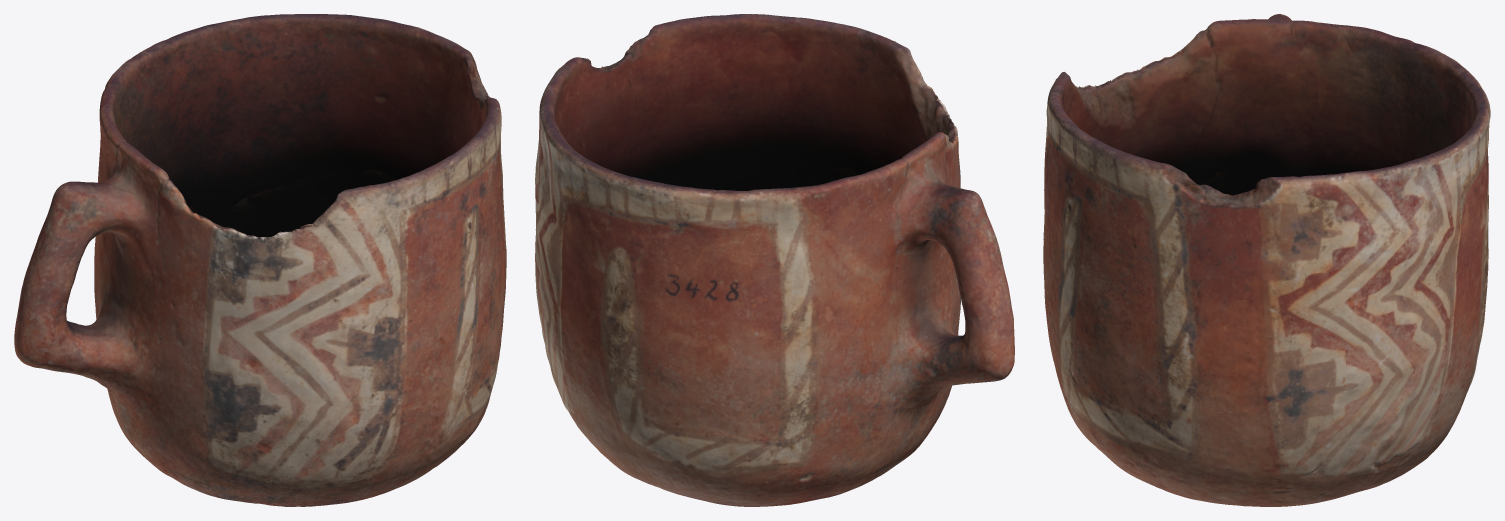
The model's file is jarron.glb.
The picture shows the model from 3 angles, left to right: view 1: azimuth 30°, elevation 25°; view 2: azimuth 150°, elevation 25°; view 3: azimuth 270°, elevation 25°; orthographic projection. The views are drawn at different scales.
Parts seen in each view (by area): view 1: Object_3, Object_5, Object_4, Object_2, Object_6; view 2: Object_2, Object_3, Object_5, Object_4, Object_6; view 3: Object_4, Object_3, Object_2, Object_6, Object_5.
Boxes of the visible parts, x1=… form: Object_3: x1=14, y1=14, x2=486, y2=478; Object_5: x1=14, y1=14, x2=502, y2=506; Object_4: x1=16, y1=14, x2=506, y2=506; Object_2: x1=68, y1=31, x2=496, y2=504; Object_6: x1=14, y1=14, x2=505, y2=506; Object_2: x1=559, y1=21, x2=988, y2=506; Object_3: x1=535, y1=17, x2=1010, y2=500; Object_5: x1=538, y1=14, x2=1013, y2=504; Object_4: x1=543, y1=15, x2=1014, y2=503; Object_6: x1=535, y1=14, x2=1014, y2=506; Object_4: x1=1045, y1=38, x2=1486, y2=506; Object_3: x1=1043, y1=40, x2=1488, y2=506; Object_2: x1=1044, y1=15, x2=1490, y2=476; Object_6: x1=1044, y1=14, x2=1488, y2=506; Object_5: x1=1045, y1=14, x2=1490, y2=505.
Size of the model in its own units: 161 by 122 by 133.
Materials: 1 (1 with a texture image).
